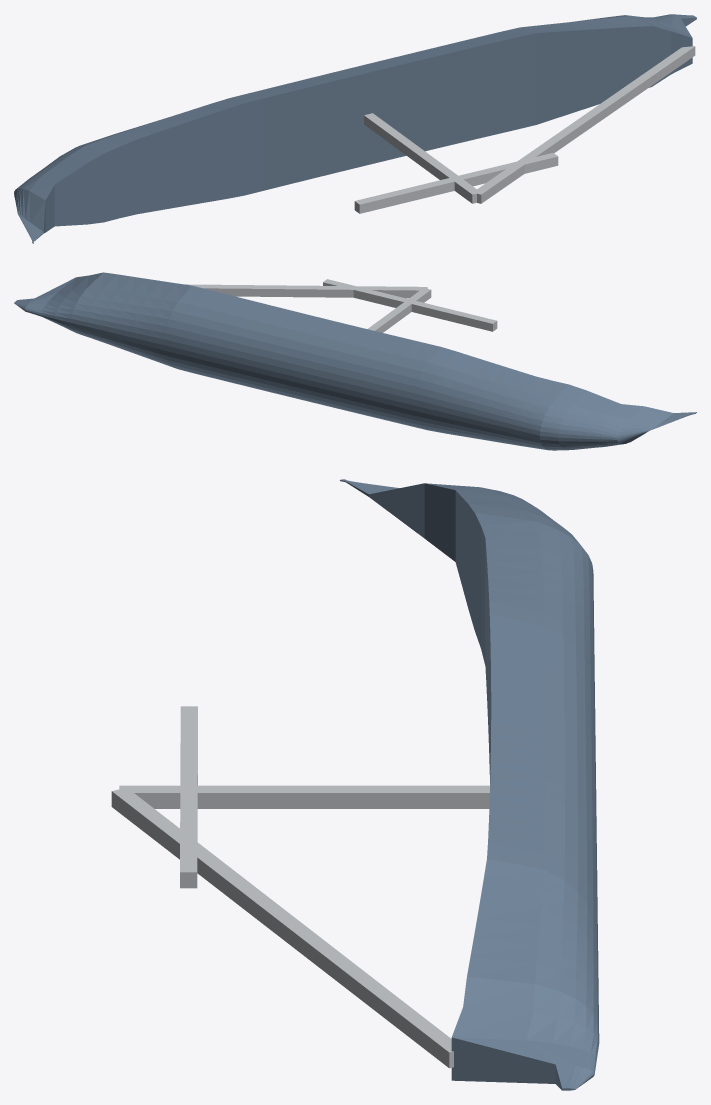
Rendered from loft-trireme-slender.glb.
The picture shows the model from 3 angles, top to bottom: view 1: azimuth 30°, elevation 25°; view 2: azimuth 150°, elevation 25°; view 3: azimuth 270°, elevation 25°; orthographic projection. The views are drawn at different scales.
Parts seen in each view (by area): view 1: loft-trireme-slender; view 2: loft-trireme-slender; view 3: loft-trireme-slender.
Boxes of the visible parts, left/top/right/bottom form: loft-trireme-slender: left=14, top=14, right=696, bottom=243; loft-trireme-slender: left=14, top=272, right=696, bottom=450; loft-trireme-slender: left=111, top=479, right=599, bottom=1090.
Size of the model in its own units: 1.98 by 0.24 by 0.6698.
